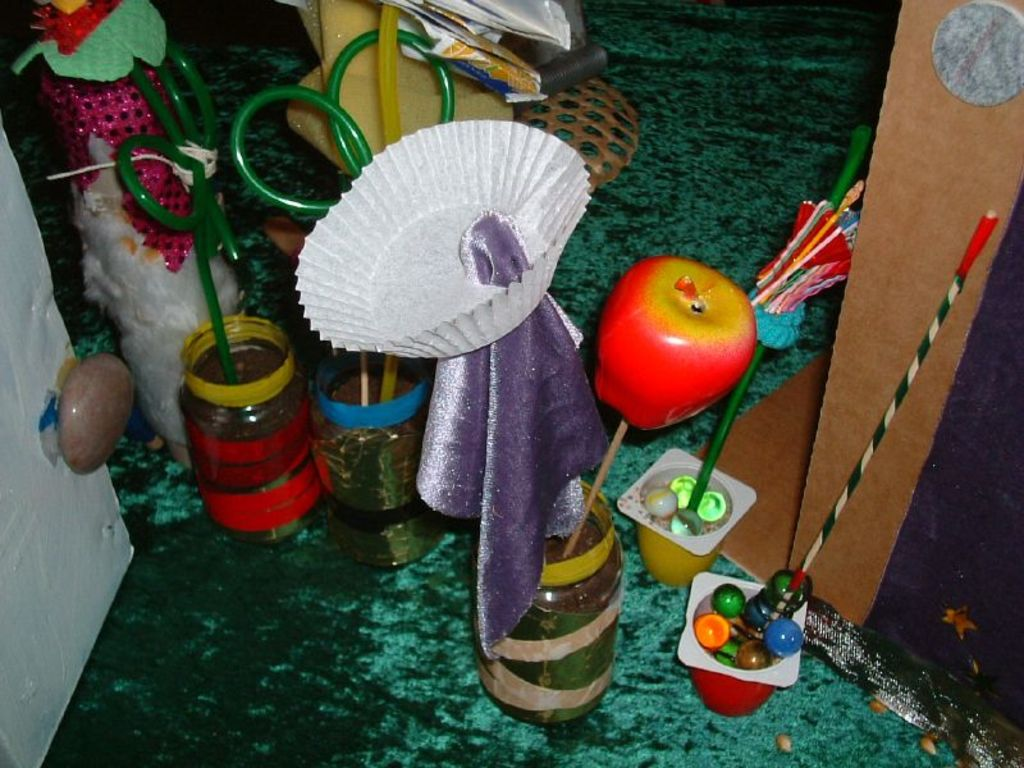Apple: (595, 263, 761, 431)
